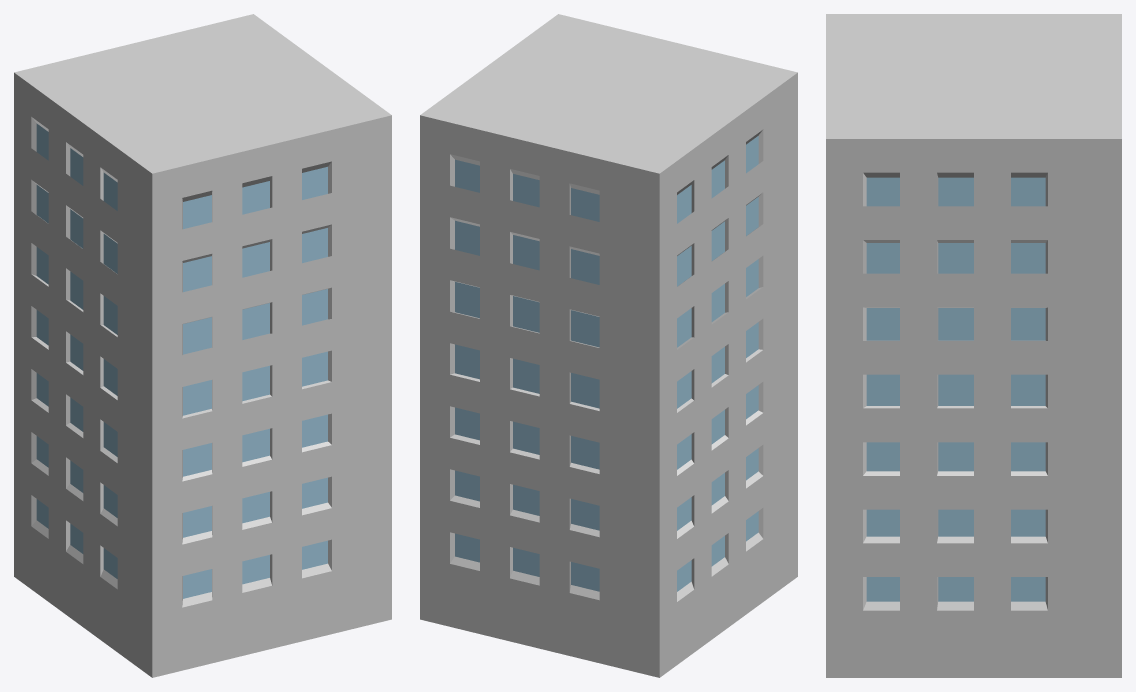
The model's file is buildig.fbx.
The picture shows the model from 3 angles, left to right: view 1: azimuth 30°, elevation 25°; view 2: azimuth 150°, elevation 25°; view 3: azimuth 270°, elevation 25°; orthographic projection. The views are drawn at different scales.
Visible parts, largest first — view 1: 平面.228; view 2: 平面.228; view 3: 平面.228.
Boxes of the visible parts, x1,y1,x2,y2 form: 平面.228: (14,14,391,677); 平面.228: (420,14,797,677); 平面.228: (826,14,1121,677).
Size of the model in its own units: 34.49 by 69.35 by 34.49.
